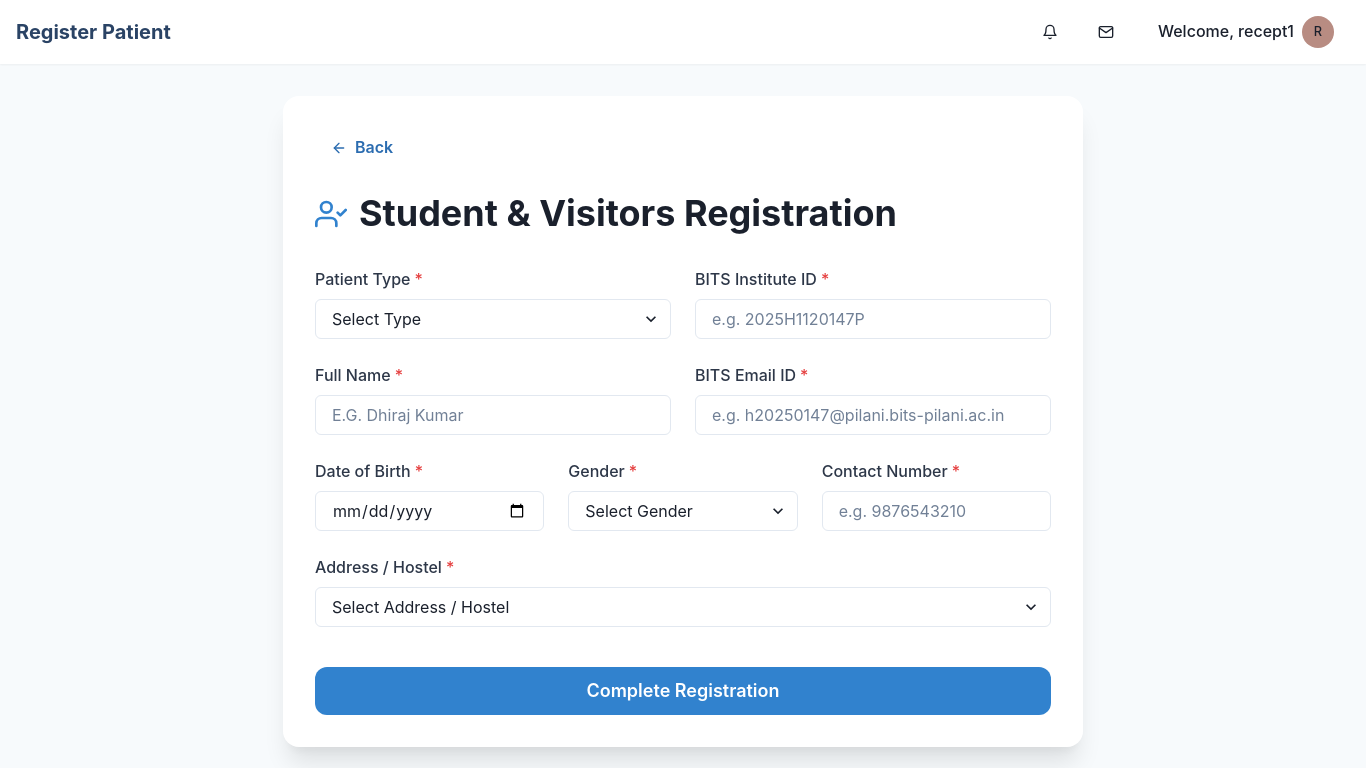
ReceptionistStudentRegistration Component › hides Institute ID and alters fields for Temporary guest
The image size is (1366, 768).
Select "Temporary (Guest)" in the dropdown labelled "Patient Type*": (493, 319) [315, 299, 671, 339]
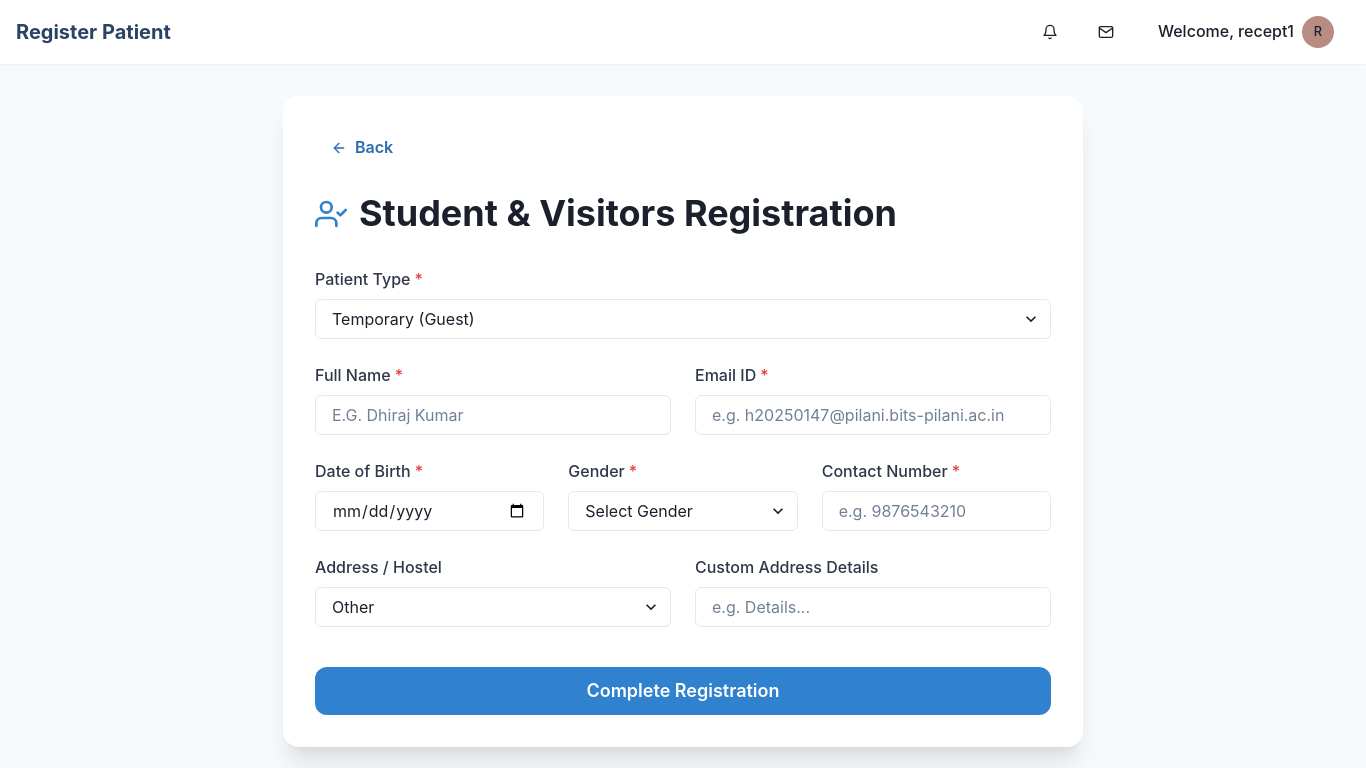
Expected: the field labelled "Email ID*" is shown, [695, 395, 1051, 435]
Expected: the label labelled "BITS Institute ID" is gone
Expected: the dropdown labelled "Address / Hostel" shows "Other", [315, 587, 671, 627]
